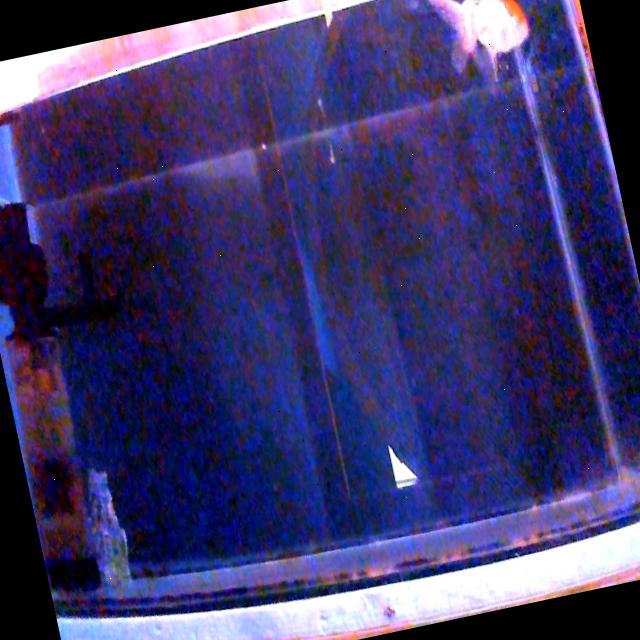fish: (419, 0, 534, 72)
